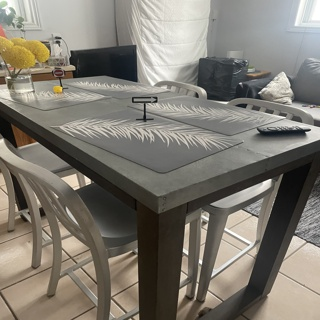sign_noentry: (52, 69, 63, 77)
sign_oneway_right: (130, 96, 157, 103)
